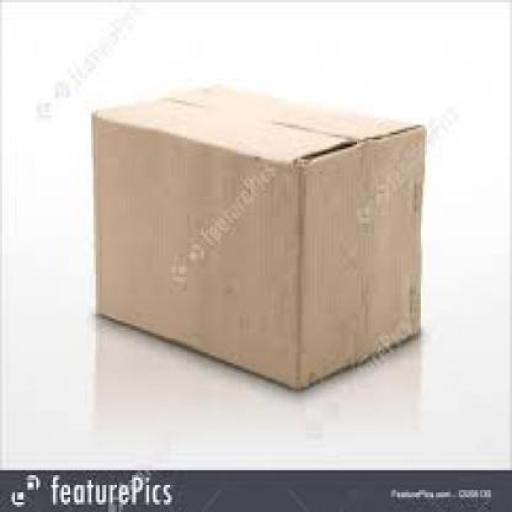cardboard: (91, 83, 423, 387)
